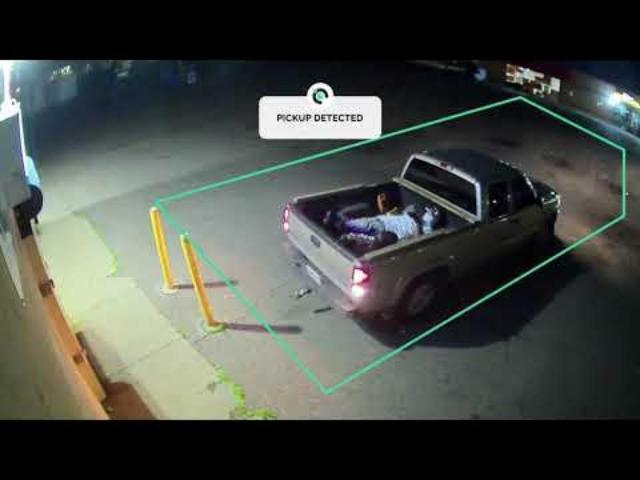pickup-truck: (279, 145, 561, 322)
